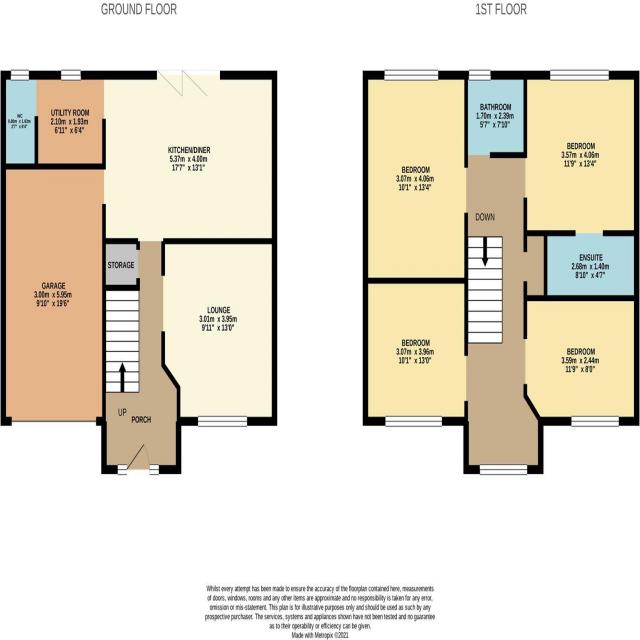DOOR: (127, 443, 149, 469)
ROOM: (1, 70, 277, 246), (362, 70, 469, 284), (161, 237, 278, 427), (523, 69, 640, 237), (363, 277, 470, 427), (523, 295, 639, 426)
WINDOW: (198, 415, 248, 427), (550, 70, 609, 80), (385, 70, 438, 81), (385, 416, 442, 426), (571, 416, 619, 427), (480, 464, 527, 475), (469, 70, 491, 81), (61, 69, 81, 81), (11, 70, 29, 80), (149, 463, 159, 475), (117, 464, 127, 475)
